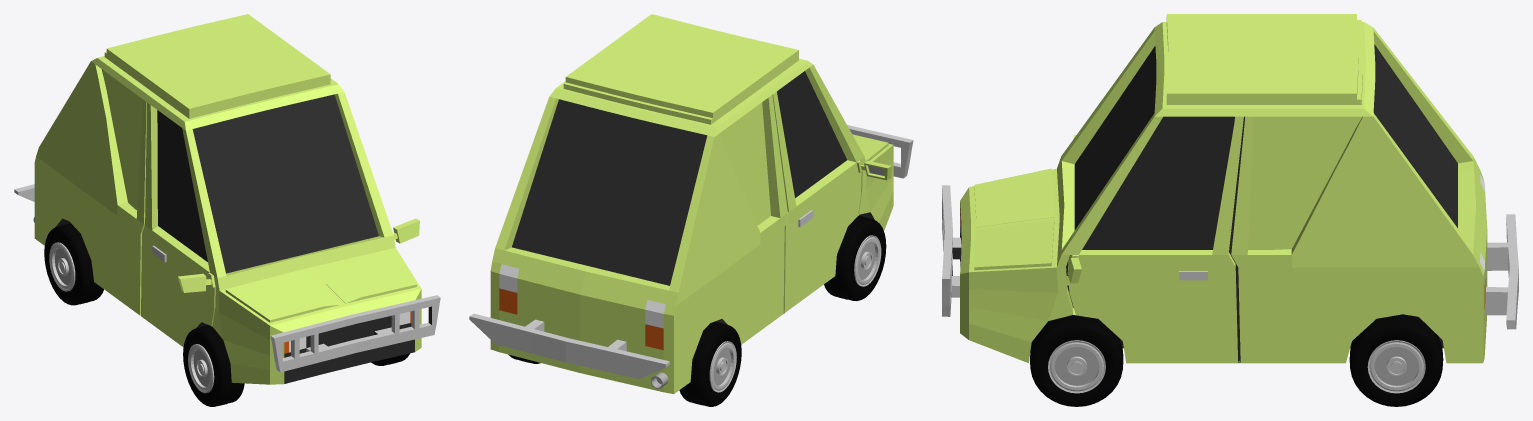
The model's file is CR-car-16.fbx.
The picture shows the model from 3 angles, left to right: view 1: azimuth 30°, elevation 25°; view 2: azimuth 150°, elevation 25°; view 3: azimuth 270°, elevation 25°; orthographic projection. The views are drawn at different scales.
Visible parts, largest first — view 1: BODY, WHEEL.001, WHEEL.004; view 2: BODY, WHEEL.004, WHEEL.001; view 3: BODY, WHEEL.002, WHEEL.003.
Boxes of the visible parts, x1,y1,x2,y2 form: BODY: (14, 14, 440, 384); WHEEL.001: (183, 325, 244, 406); WHEEL.004: (44, 223, 103, 305); BODY: (469, 14, 913, 393); WHEEL.004: (679, 321, 741, 406); WHEEL.001: (824, 216, 886, 300); BODY: (942, 14, 1518, 363); WHEEL.002: (1349, 314, 1443, 406); WHEEL.003: (1030, 315, 1123, 406).
Bounding box in the file's own units: 133 × 139 × 241.
